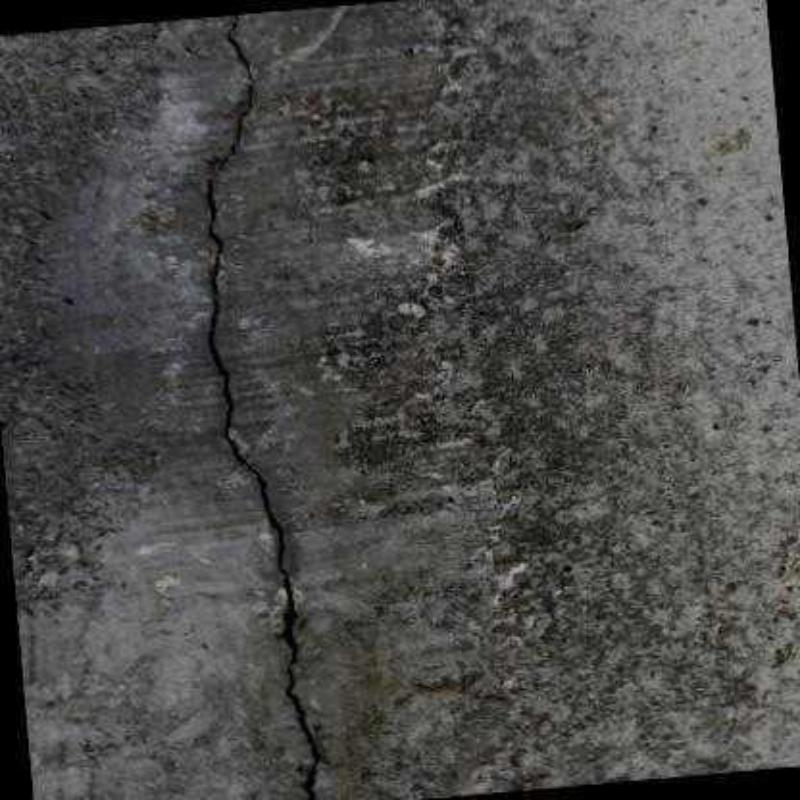pothole: (206, 13, 318, 799)
